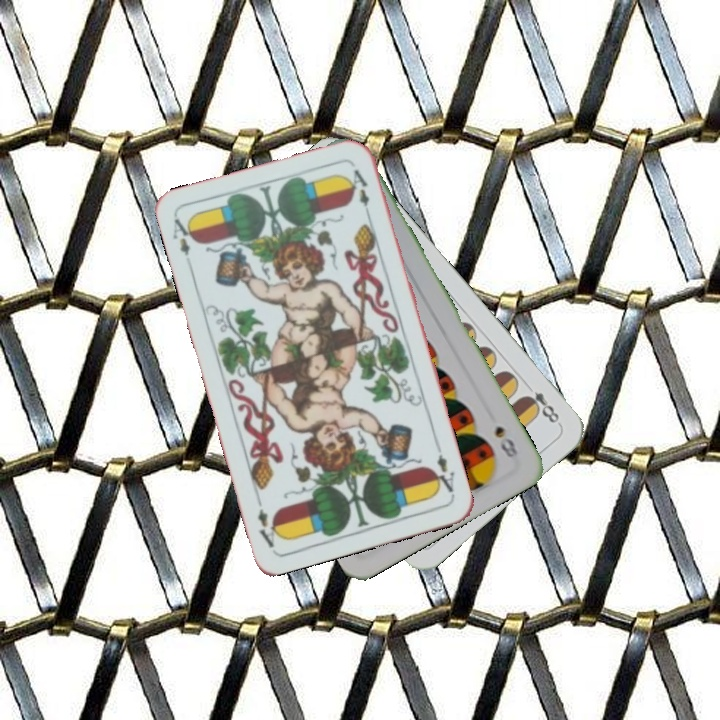E8: (519, 378, 563, 428)
EA: (428, 440, 458, 498), (168, 214, 198, 271)
S8: (490, 421, 521, 466)
